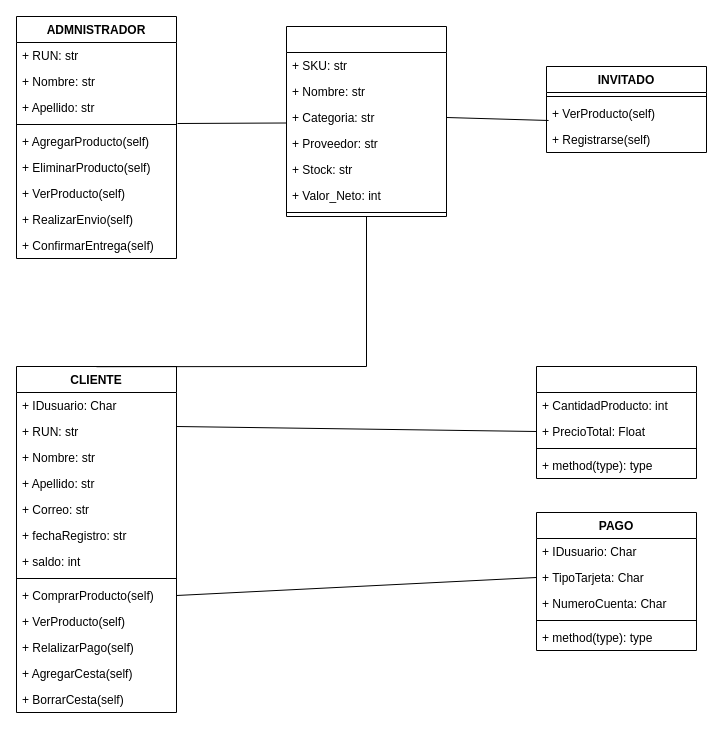
The diagram is 723 pixels wide and 729 high, and some of its shapes have lost their labels. The shapes that lost their labels are listed below. From the top down, each one's box as (x1, y1, x2, y2) in pixels, then its label:
(286, 26, 446, 216): PRODUCTO
(536, 366, 696, 478): CARRO
